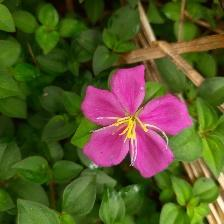malabar melastome: (79, 66, 193, 181)
